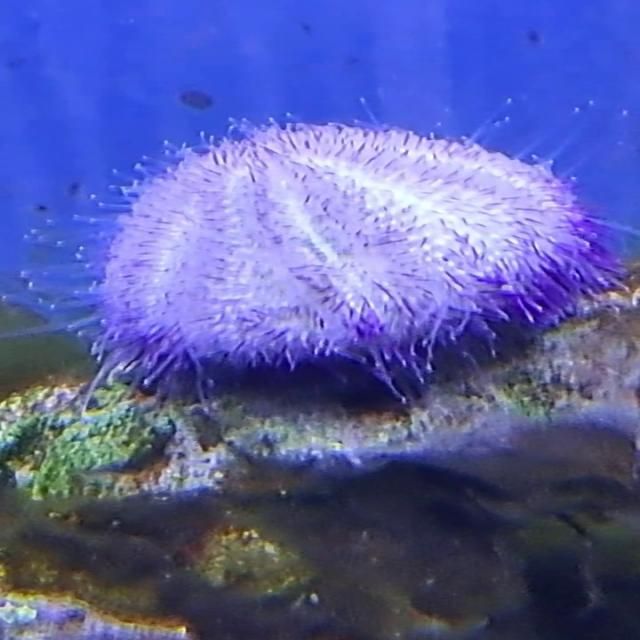Deniz Kestanesi: (44, 125, 594, 400)
